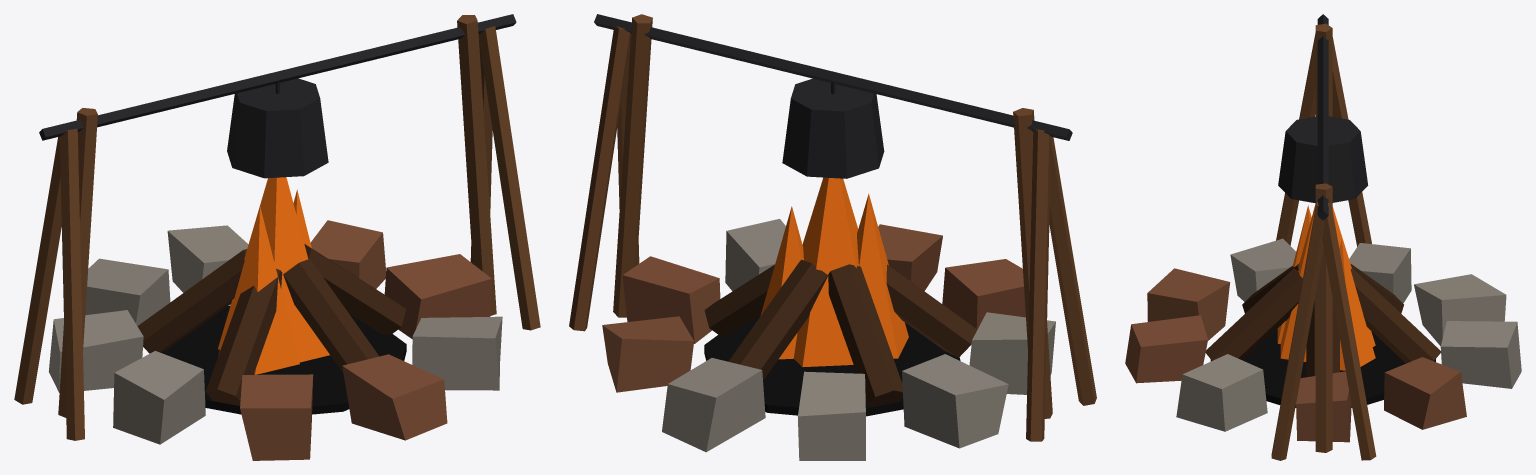
Rendered from SM_Campfire.obj.
The picture shows the model from 3 angles, left to right: view 1: azimuth 30°, elevation 25°; view 2: azimuth 150°, elevation 25°; view 3: azimuth 270°, elevation 25°; orthographic projection. The views are drawn at different scales.
Parts seen in each view (by area): view 1: SM_Campfire; view 2: SM_Campfire; view 3: SM_Campfire.
Part boxes in pixels (bbox=[...]): SM_Campfire: bbox=[14, 14, 540, 460]; SM_Campfire: bbox=[569, 14, 1096, 460]; SM_Campfire: bbox=[1125, 14, 1521, 460].
Size of the model in its own units: 1.24 by 0.765 by 1.06.
